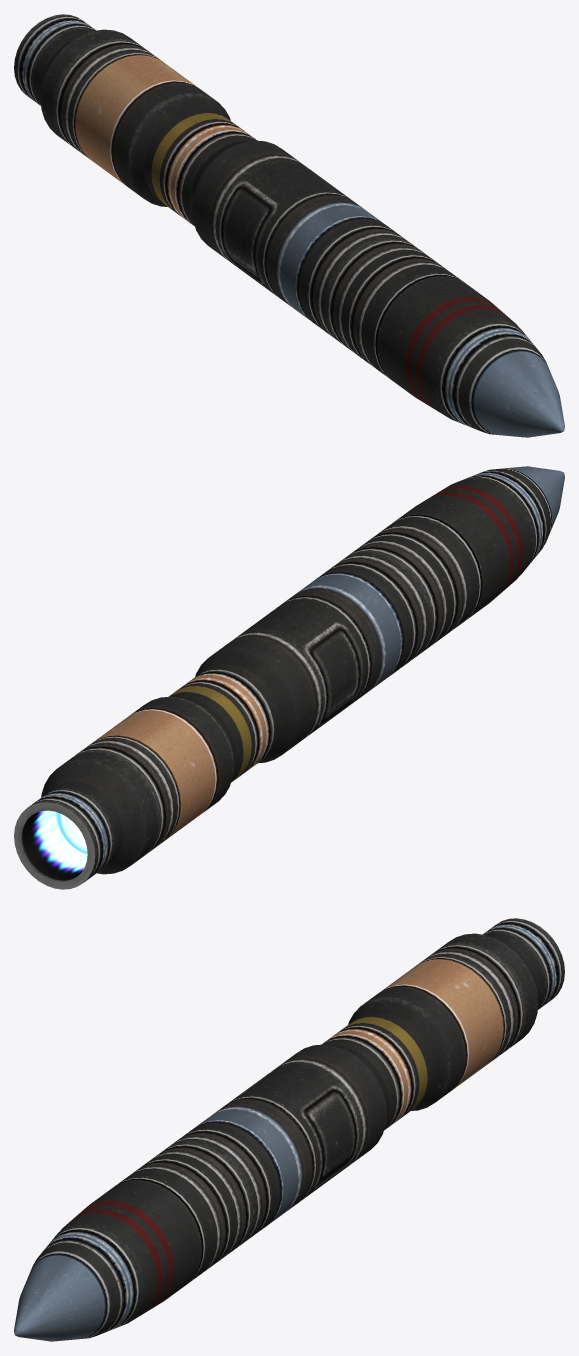
File: ST25ScatterMissile.fbx
3 views of the same model, one above another, from view 1: azimuth 30°, elevation 25°; view 2: azimuth 150°, elevation 25°; view 3: azimuth 330°, elevation 25° (orthographic).
Visible parts, largest first — view 1: ST25ScatterMissile; view 2: ST25ScatterMissile; view 3: ST25ScatterMissile.
Part boxes in pixels (<box>): ST25ScatterMissile: <box>14,14,564,437</box>; ST25ScatterMissile: <box>14,466,564,889</box>; ST25ScatterMissile: <box>14,918,564,1341</box>.
Size of the model in its own units: 87.95 by 87.95 by 735.
